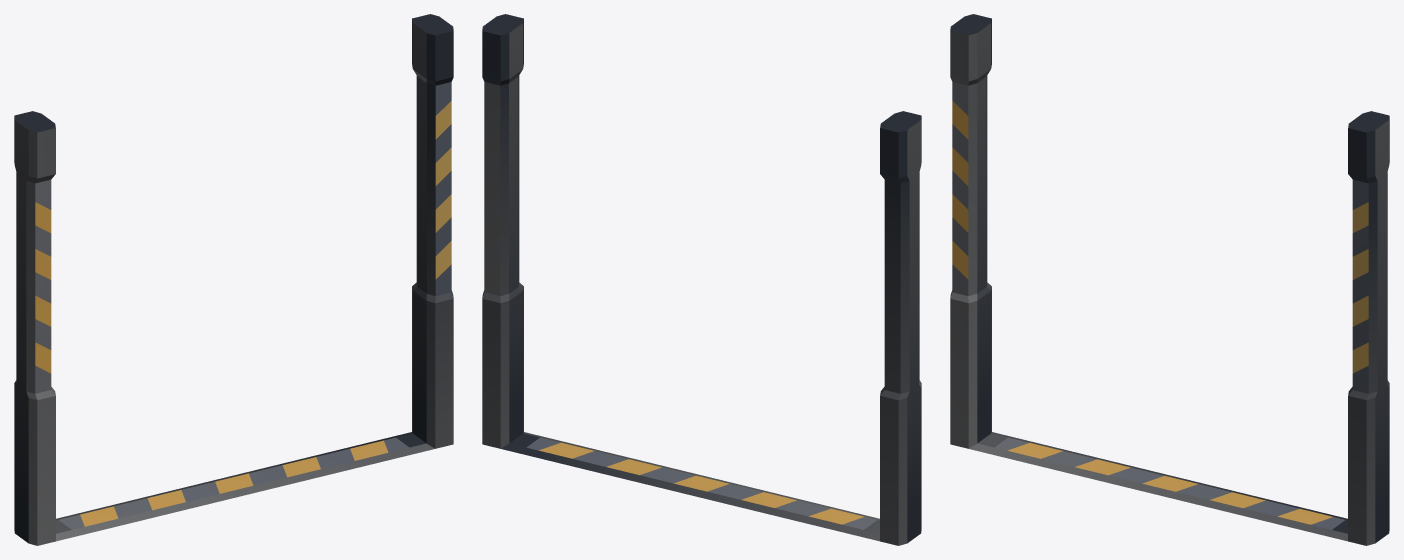
File: g_o_Garage2.fbx
3 renders of one model, left to right at view 1: azimuth 30°, elevation 25°; view 2: azimuth 150°, elevation 25°; view 3: azimuth 330°, elevation 25°, orthographic.
Parts seen in each view (by area): view 1: g_t_Garage; view 2: g_t_Garage; view 3: g_t_Garage.
Part boxes in pixels (x1=…): g_t_Garage: x1=14, y1=14, x2=453, y2=545; g_t_Garage: x1=482, y1=14, x2=921, y2=545; g_t_Garage: x1=950, y1=14, x2=1389, y2=545.
Size of the model in its own units: 2 by 1.86 by 0.1894.
